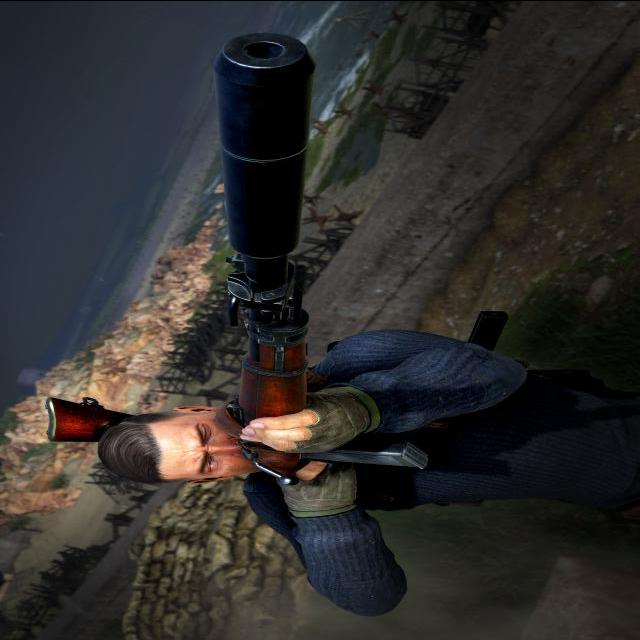sniper rifle: (212, 21, 432, 480)
